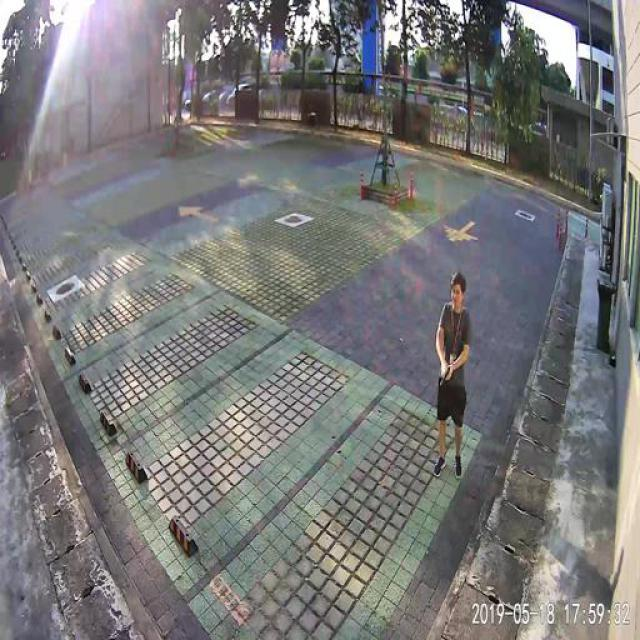Gun: (436, 364, 449, 385)
